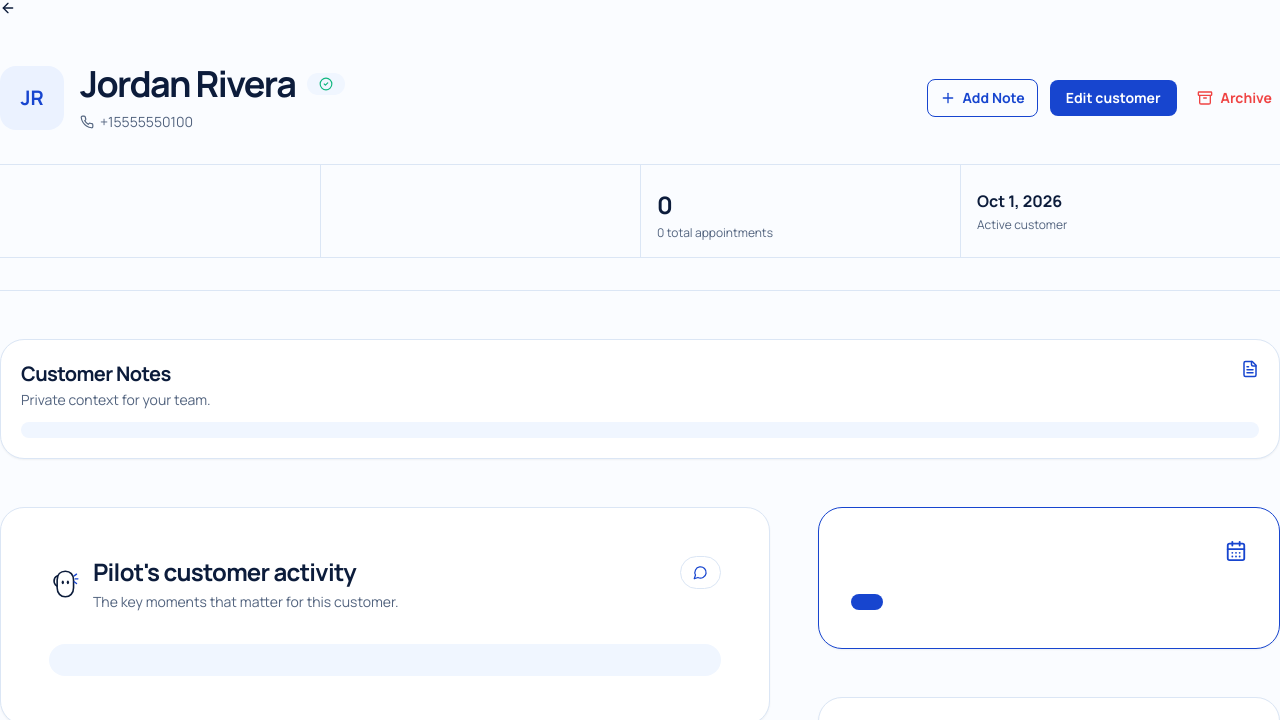
Test: Customer profile notes › closes the dialog with Cancel without saving anything
The width and height of the screenshot is (1280, 720).
Click the button "Add Note" at (983, 98), box [927,79,1038,117]
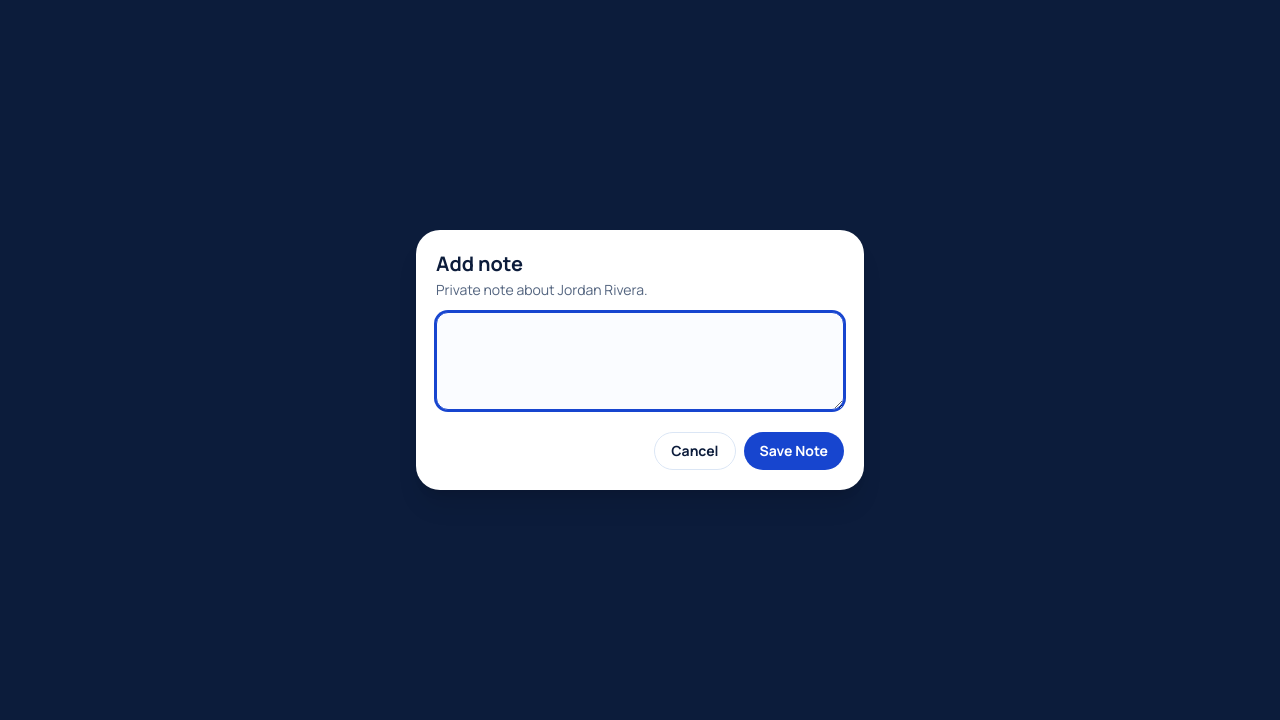
Type "Never mind" into the text box at (640, 361), box [436,312,844,410]
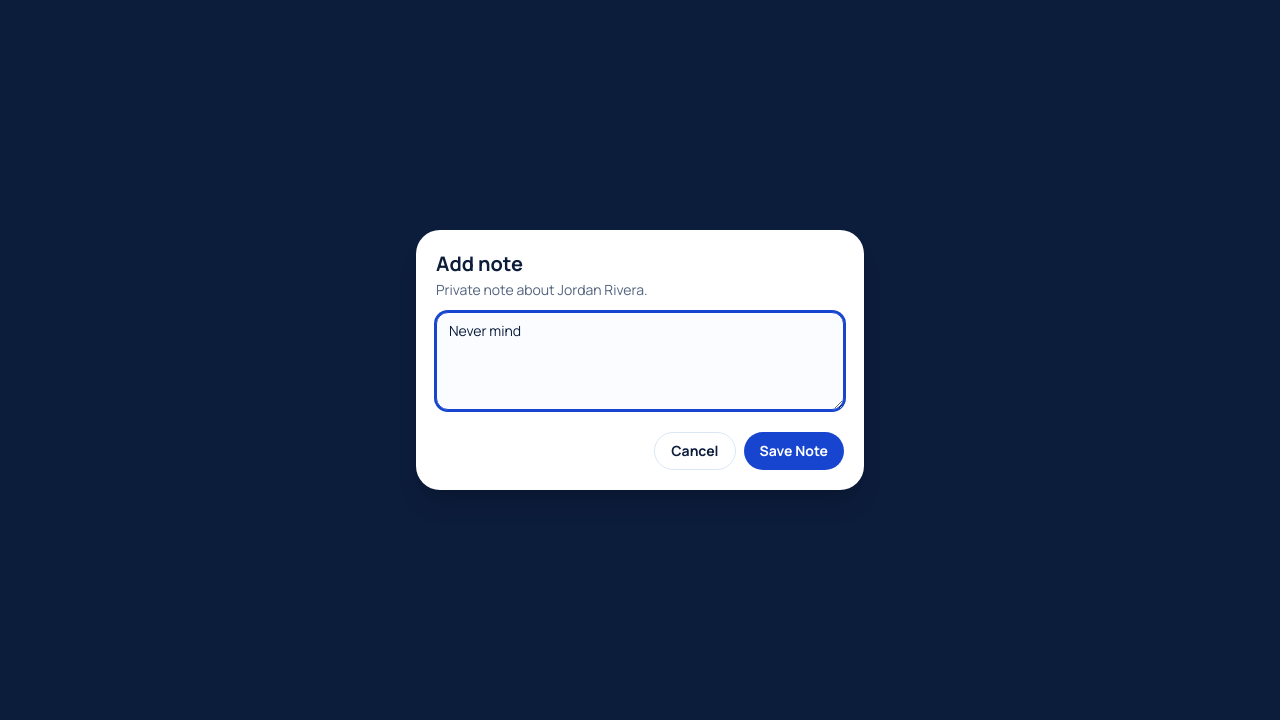
Click the button "Cancel" at (695, 451), box [654,432,736,470]
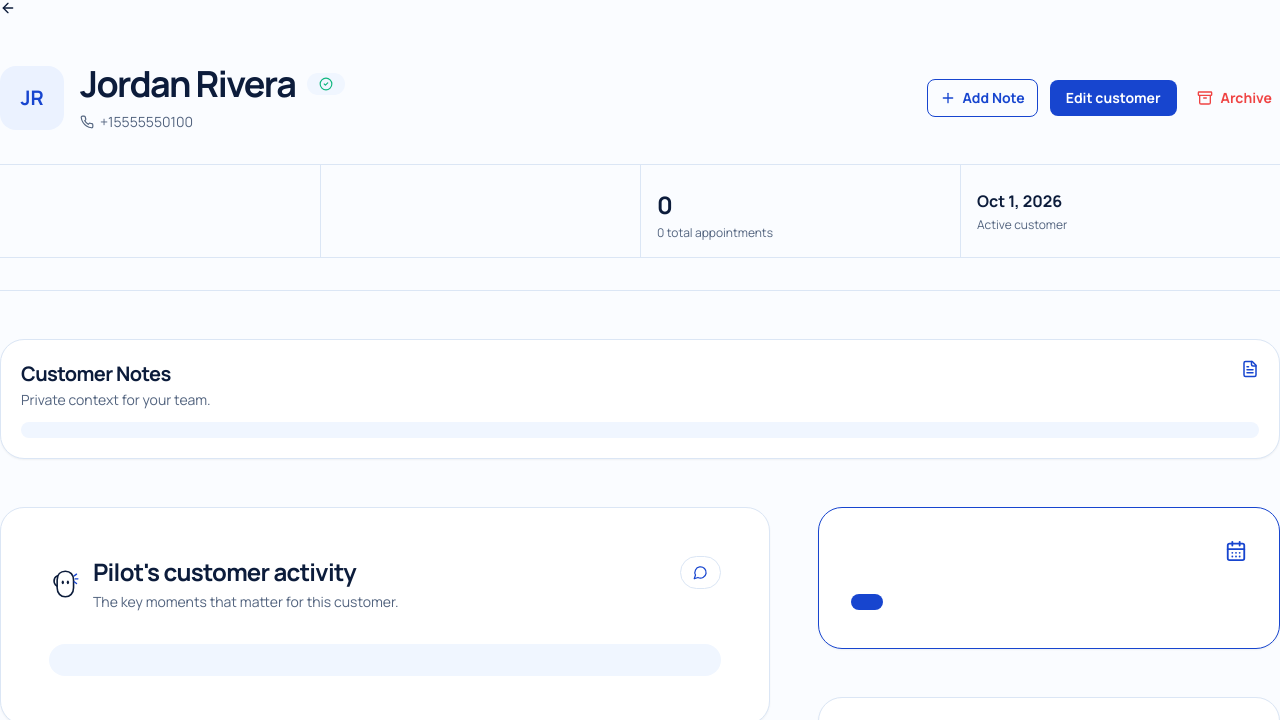
expect the dialog is gone: met
